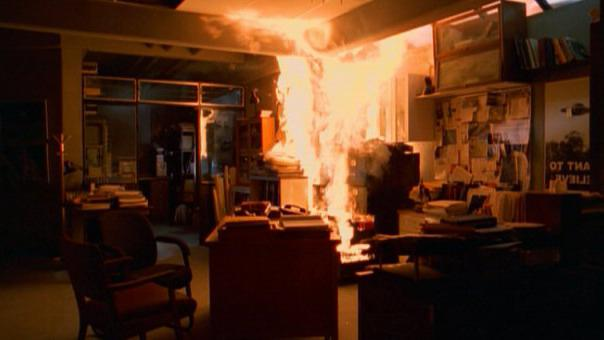fire: (263, 39, 417, 261)
